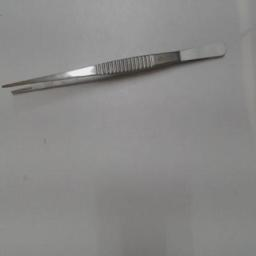DeBakey Dissector: (0, 33, 234, 113)
